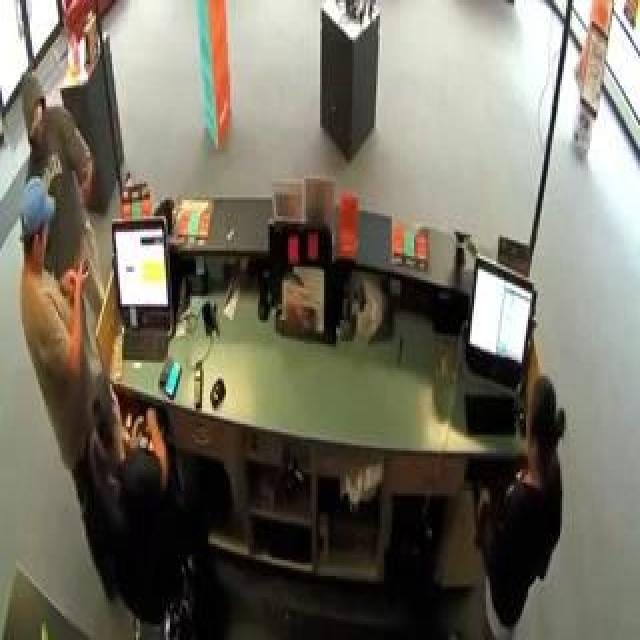low_con: (14, 176, 50, 280), (15, 68, 52, 148)
no_con: (522, 369, 566, 482), (86, 368, 128, 455)
